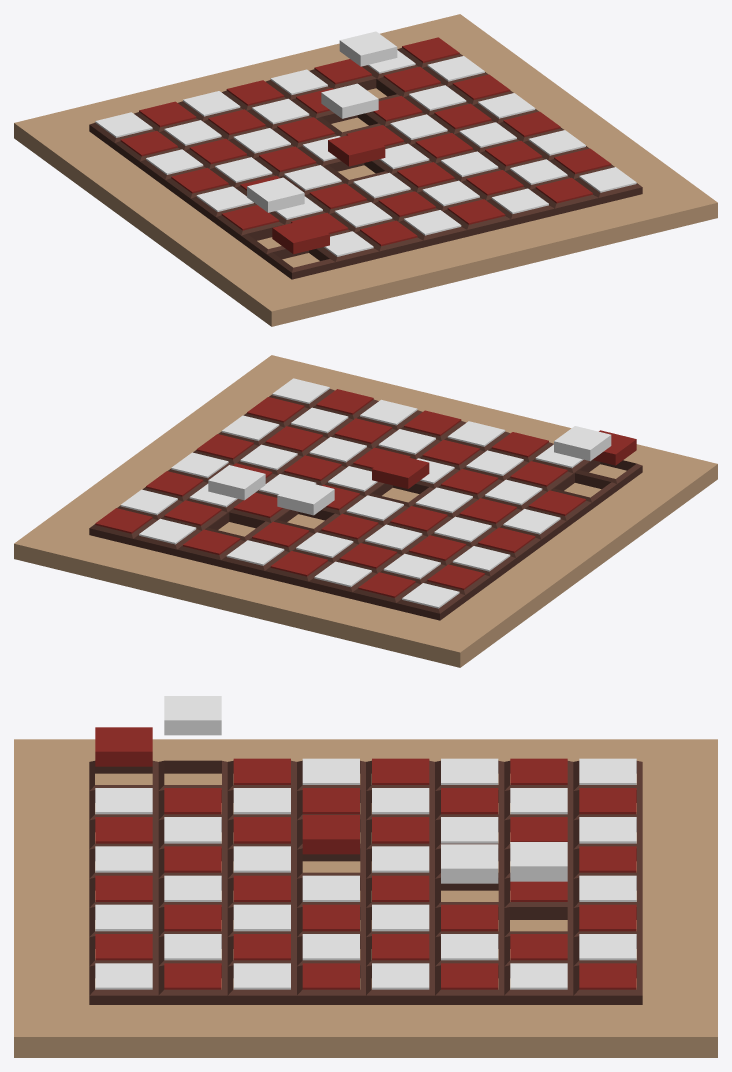
File: chess7.gltf
3 views of the same model, one above another, from view 1: azimuth 30°, elevation 25°; view 2: azimuth 150°, elevation 25°; view 3: azimuth 270°, elevation 25° (orthographic). The views are drawn at different scales.
Visible parts, largest first — view 1: board_base, tile.031, tile.016, tile.003, tile.048, tile.049, trim.049, tile.014, tile.027, tile.033, tile.026, tile.037 (+62 smaller); view 2: board_base, tile.016, tile.031, tile.003, tile.048, trim.048, tile.054, tile.015, tile.043, tile.046, tile.008, tile.025 (+63 smaller); view 3: board_base, tile.016, tile.031, tile.048, tile.049, tile.003, tile.039, tile.054, tile.055, tile.014, tile.015, tile.023 (+94 smaller).
Part boxes in pixels (box(x1,y1,x2,y2)): board_base: box(14, 14, 717, 326); tile.031: box(339, 31, 397, 66); tile.016: box(321, 83, 378, 118); tile.003: box(328, 131, 385, 166); tile.048: box(247, 177, 304, 212); tile.049: box(272, 219, 329, 254); trim.049: box(266, 248, 335, 279); tile.014: box(390, 114, 447, 139); tile.027: box(164, 120, 221, 145); tile.033: box(226, 80, 284, 105); tile.026: box(208, 109, 265, 134); tile.037: box(402, 37, 459, 62); board_base: box(14, 355, 717, 667); tile.016: box(277, 480, 334, 515); tile.031: box(208, 465, 265, 500); tile.003: box(372, 454, 429, 488); tile.048: box(554, 426, 611, 461); trim.048: box(550, 473, 617, 509); tile.054: box(334, 418, 392, 443); tile.015: box(284, 455, 341, 480); tile.043: box(447, 421, 505, 446); tile.046: box(510, 461, 567, 486); tile.008: box(478, 527, 535, 552); tile.025: box(296, 532, 353, 557); board_base: box(14, 739, 717, 1057); tile.016: box(441, 844, 498, 883); tile.031: box(510, 842, 567, 881); tile.048: box(164, 696, 221, 735); tile.049: box(95, 727, 152, 766); tile.003: box(302, 815, 359, 854); tile.039: box(579, 904, 636, 931); tile.054: box(164, 904, 221, 931); tile.055: box(95, 904, 152, 931); tile.014: box(372, 904, 429, 931); tile.015: box(302, 904, 359, 931); tile.023: box(441, 904, 498, 931).
Bounding box in the file's own units: 20.36 × 3.15 × 20.36.
